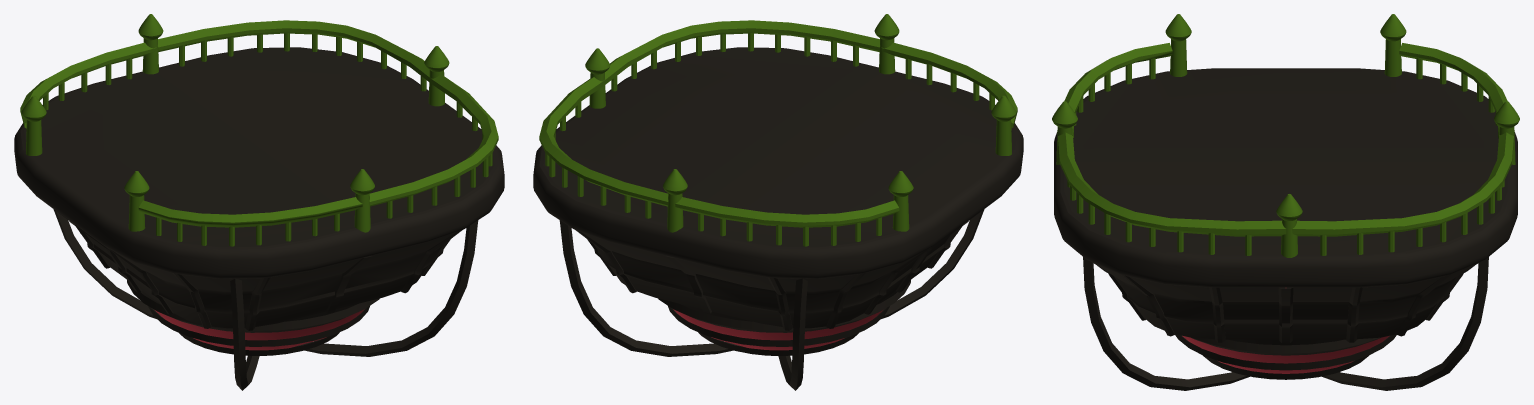
The model's file is Plateforme_2.fbx.
3 renders of one model, left to right at view 1: azimuth 30°, elevation 25°; view 2: azimuth 150°, elevation 25°; view 3: azimuth 270°, elevation 25°, orthographic. The views are drawn at different scales.
Parts seen in each view (by area): view 1: Base, Barrier.001, Barrier, Cube.214, Base.001; view 2: Base, Barrier.001, Barrier, Cube.214, Base.001; view 3: Base, Barrier.001, Barrier, Cube.214, Base.001.
Boxes of the visible parts, <box> form: Base: <box>14,47,504,390</box>; Barrier.001: <box>20,20,498,227</box>; Barrier: <box>21,14,449,232</box>; Cube.214: <box>26,33,492,246</box>; Base.001: <box>155,309,364,350</box>; Base: <box>533,47,1023,390</box>; Barrier.001: <box>539,20,1017,227</box>; Barrier: <box>585,14,1016,232</box>; Cube.214: <box>545,33,1011,246</box>; Base.001: <box>673,309,882,350</box>; Base: <box>1054,68,1517,390</box>; Barrier.001: <box>1058,43,1513,236</box>; Barrier: <box>1052,14,1519,257</box>; Cube.214: <box>1067,58,1504,255</box>; Base.001: <box>1182,335,1389,373</box>.
Size of the model in its own units: 817 by 515 by 832.
